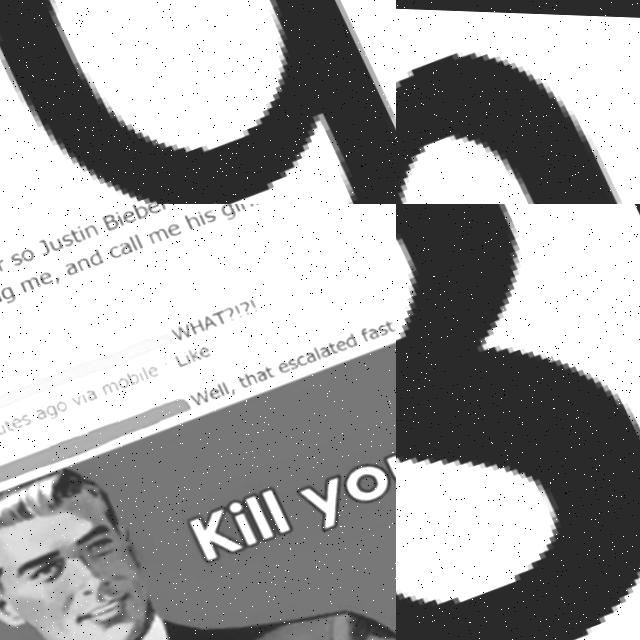8: (396, 204, 640, 640)
A: (195, 309, 214, 327), (59, 257, 76, 274), (113, 237, 131, 253), (248, 364, 265, 380), (78, 385, 94, 401), (28, 405, 43, 419), (313, 339, 327, 354), (362, 322, 376, 336), (299, 347, 312, 361)
B: (97, 209, 118, 230), (120, 364, 137, 383), (127, 204, 148, 218)
C: (102, 241, 121, 259), (290, 349, 303, 364)
D: (82, 245, 102, 266), (338, 327, 354, 344)
E: (117, 206, 135, 222), (33, 268, 51, 284), (162, 218, 180, 234), (141, 361, 157, 377), (191, 341, 207, 357), (3, 414, 19, 429), (201, 382, 216, 397), (330, 334, 344, 349), (271, 356, 285, 369), (141, 204, 160, 213)
F: (353, 321, 368, 338)
G: (0, 0, 396, 204), (38, 400, 55, 420), (0, 282, 13, 302), (215, 204, 235, 217)
H: (180, 207, 200, 228), (182, 313, 202, 333), (237, 365, 253, 382)
I: (217, 494, 253, 545), (73, 220, 85, 240), (111, 206, 122, 222), (193, 205, 203, 221), (73, 387, 83, 401), (177, 346, 187, 360), (130, 365, 139, 379), (229, 204, 240, 208)
J: (32, 235, 48, 254)
K: (178, 500, 238, 561), (182, 342, 195, 359)
L: (233, 488, 269, 539), (250, 481, 286, 532), (168, 347, 184, 365), (307, 340, 318, 357), (125, 232, 136, 248), (130, 230, 141, 246), (134, 361, 145, 377), (214, 377, 224, 391), (211, 378, 220, 392)
M: (143, 222, 167, 242), (14, 273, 37, 291), (93, 376, 115, 394)
N: (79, 220, 96, 237), (71, 253, 88, 269)
O: (330, 451, 390, 505), (16, 244, 33, 262), (48, 396, 64, 412), (110, 373, 126, 388)
P: (396, 50, 619, 204)
R: (0, 255, 5, 270), (154, 204, 168, 207)
S: (4, 248, 21, 266), (56, 229, 72, 247), (198, 204, 214, 220), (13, 411, 28, 425), (371, 318, 385, 332), (281, 353, 294, 367)
T: (64, 223, 80, 243), (207, 306, 225, 323), (230, 370, 244, 387), (257, 360, 271, 376), (321, 335, 335, 351), (378, 313, 392, 329), (0, 416, 9, 431)
U: (375, 436, 396, 488), (43, 234, 61, 251)
V: (64, 392, 78, 405)
W: (164, 319, 189, 340), (183, 384, 208, 405)
Y: (287, 468, 353, 532)
